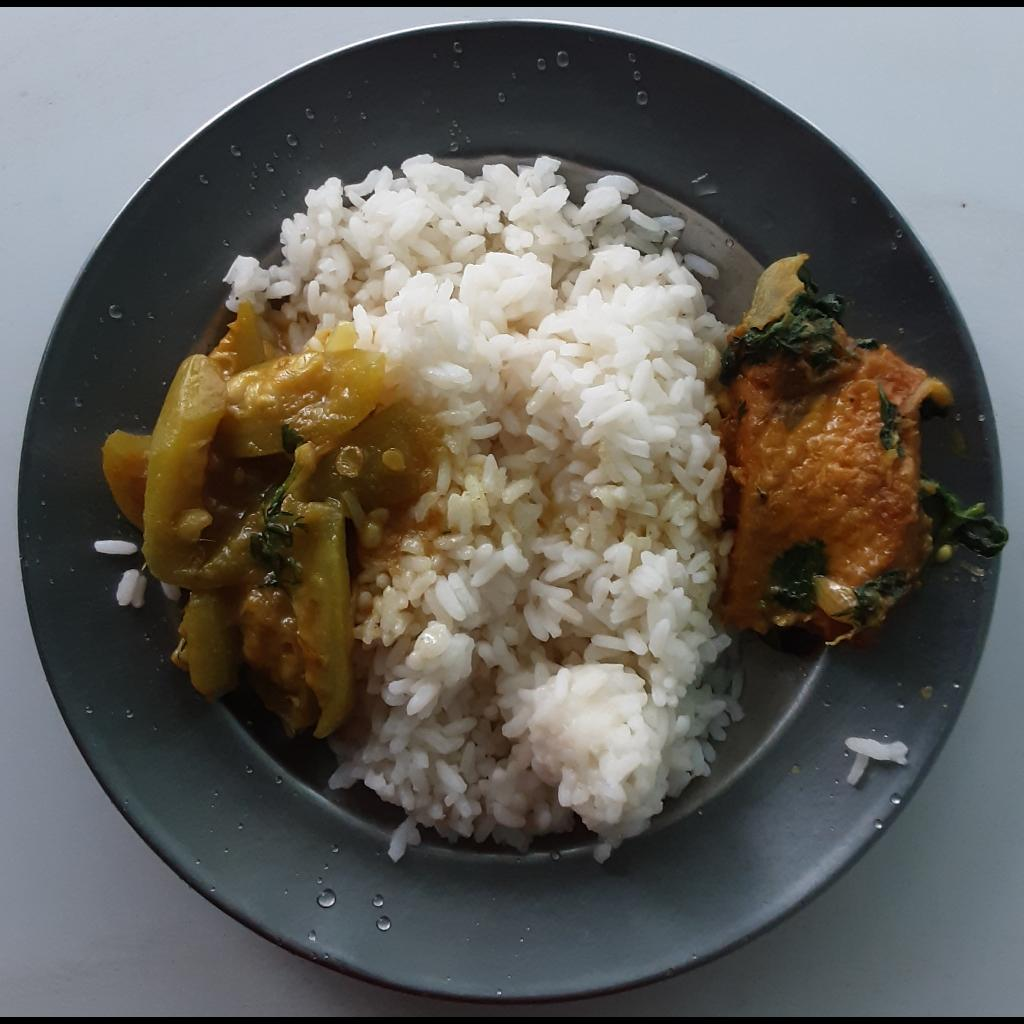fish: (720, 251, 1011, 656)
potol: (102, 297, 433, 744)
rice: (224, 148, 746, 868)
